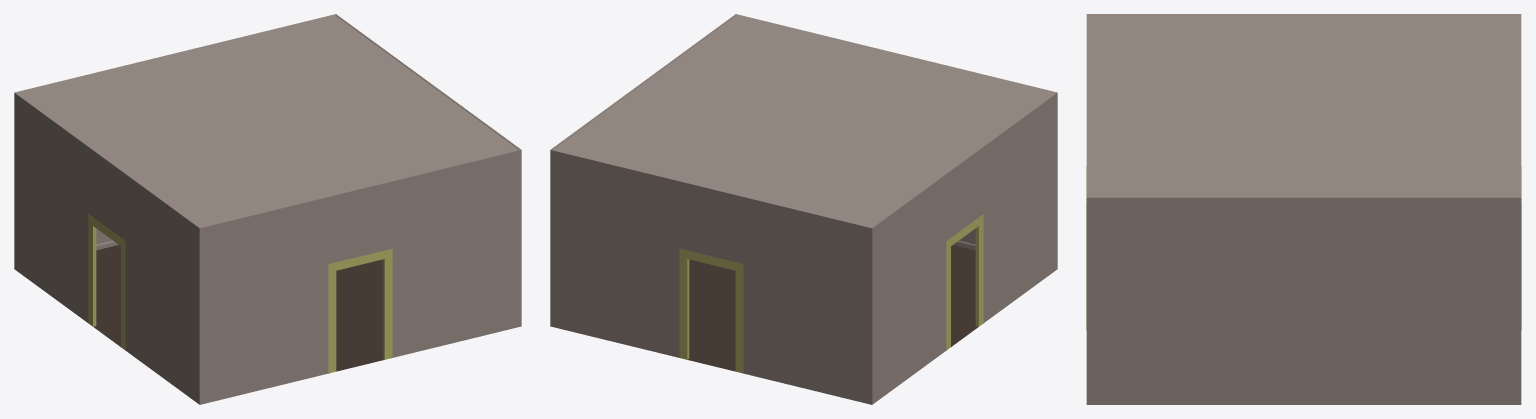
File: Room36_Patio.fbx
The picture shows the model from 3 angles, left to right: view 1: azimuth 30°, elevation 25°; view 2: azimuth 150°, elevation 25°; view 3: azimuth 270°, elevation 25°; orthographic projection. The views are drawn at different scales.
Visible parts, largest first — view 1: Roof, WallSlicedPosZ, WallSlicedPosX, WallSlicedPosZ1, Floor, WallSlicedPosX11, DoorFramePosZ, DoorFramePosX, WallNegX, WallSlicedNegZ; view 2: Roof, WallSlicedNegZ, WallSlicedPosX, WallSlicedNegZ15, Floor, WallSlicedPosX11, DoorFrameNegZ, DoorFramePosX, WallNegX, WallSlicedPosZ; view 3: Roof, WallNegX, WallNegX8, WallSlicedNegZ, WallSlicedPosZ, WallSlicedPosX.
Boxes of the visible parts, bbox=[...] form: Roof: bbox=[16, 15, 518, 227]; WallSlicedPosZ: bbox=[199, 149, 521, 364]; WallSlicedPosX: bbox=[14, 92, 200, 363]; WallSlicedPosZ1: bbox=[199, 286, 521, 404]; Floor: bbox=[88, 245, 392, 373]; WallSlicedPosX11: bbox=[14, 229, 201, 404]; DoorFramePosZ: bbox=[328, 248, 392, 372]; DoorFramePosX: bbox=[88, 214, 125, 349]; WallNegX: bbox=[335, 14, 521, 285]; WallSlicedNegZ: bbox=[14, 14, 335, 228]; Roof: bbox=[553, 15, 1055, 227]; WallSlicedNegZ: bbox=[550, 149, 872, 364]; WallSlicedPosX: bbox=[871, 92, 1057, 363]; WallSlicedNegZ15: bbox=[550, 286, 873, 404]; Floor: bbox=[679, 245, 983, 373]; WallSlicedPosX11: bbox=[870, 230, 1056, 404]; DoorFrameNegZ: bbox=[679, 248, 743, 372]; DoorFramePosX: bbox=[946, 214, 983, 349]; WallNegX: bbox=[550, 14, 736, 285]; WallSlicedPosZ: bbox=[736, 14, 1057, 228]; Roof: bbox=[1088, 14, 1519, 197]; WallNegX: bbox=[1086, 197, 1521, 357]; WallNegX8: bbox=[1086, 357, 1521, 404]; WallSlicedNegZ: bbox=[1519, 14, 1521, 197]; WallSlicedPosZ: bbox=[1086, 14, 1088, 197]; WallSlicedPosX: bbox=[1087, 14, 1520, 14].
Bounding box in the file's own units: 801 × 421 × 800.
